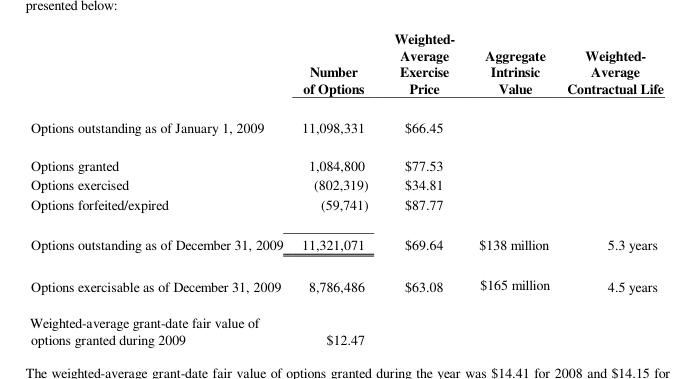table: (28, 28, 662, 347)
table column: (28, 28, 291, 347), (557, 28, 662, 347), (466, 28, 557, 347), (291, 28, 380, 347), (380, 28, 466, 347)
table column header: (28, 28, 662, 107)
table row: (28, 28, 662, 107), (28, 303, 662, 347), (28, 223, 662, 263), (28, 263, 662, 303), (28, 107, 662, 145), (28, 193, 662, 223), (28, 145, 662, 173), (28, 173, 662, 193)
